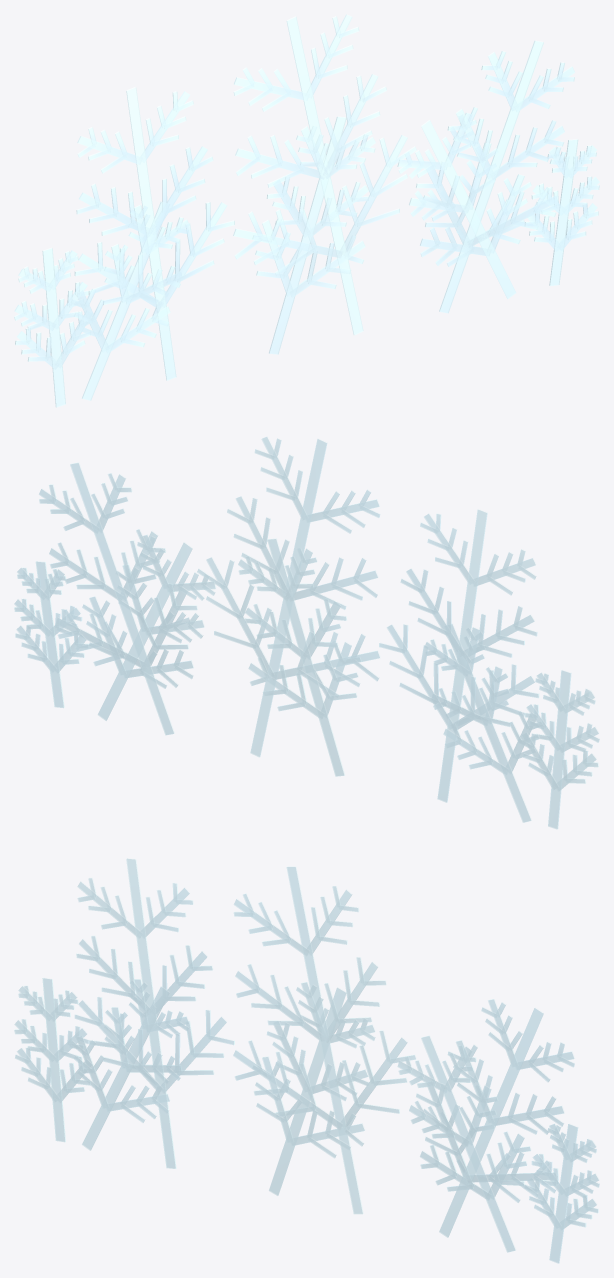
The model's file is frost_fern_glass.glb.
3 renders of one model, top to bottom at view 1: azimuth 30°, elevation 25°; view 2: azimuth 150°, elevation 25°; view 3: azimuth 330°, elevation 25°, orthographic.
Parts seen in each view (by area): view 1: frost_fern_glass; view 2: frost_fern_glass; view 3: frost_fern_glass.
Boxes of the visible parts, x1,y1,x2,y2 form: frost_fern_glass: (14,14,599,407); frost_fern_glass: (14,436,599,829); frost_fern_glass: (14,858,599,1263).
Size of the model in its own units: 36.66 by 20 by 0.0853.
